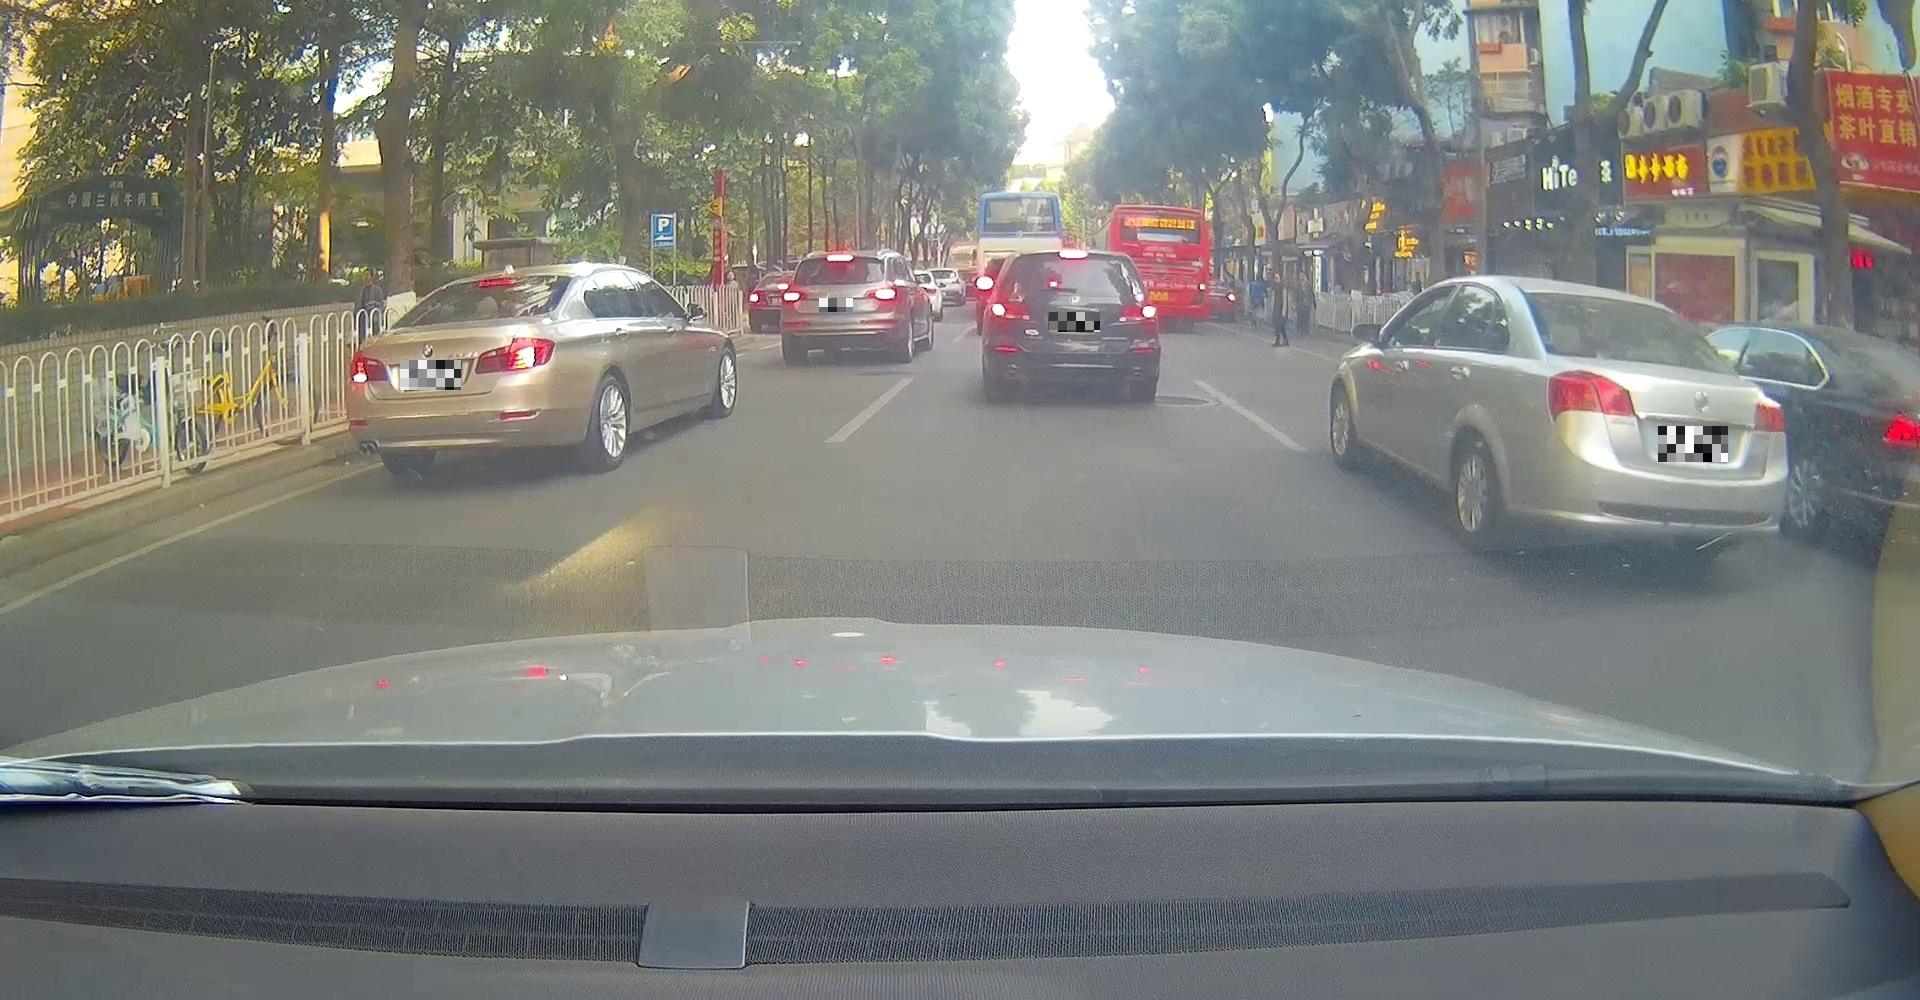L_light: (1545, 369, 1636, 421), (349, 350, 389, 383), (985, 301, 1030, 321), (781, 288, 808, 303)
R_light: (474, 335, 556, 373), (1751, 404, 1785, 431), (1119, 302, 1161, 322), (867, 287, 899, 303)
T_light: (1630, 349, 1683, 360), (476, 279, 516, 286), (1058, 250, 1090, 258), (825, 254, 853, 261)
day-brake: (344, 265, 556, 475), (982, 247, 1161, 400), (781, 250, 899, 362)
day-no: (1544, 277, 1788, 563)
plate_1: (400, 360, 461, 390)
plate_2: (819, 298, 853, 312)
plate_3: (1049, 312, 1100, 332)
plate_4: (1658, 426, 1728, 462)
